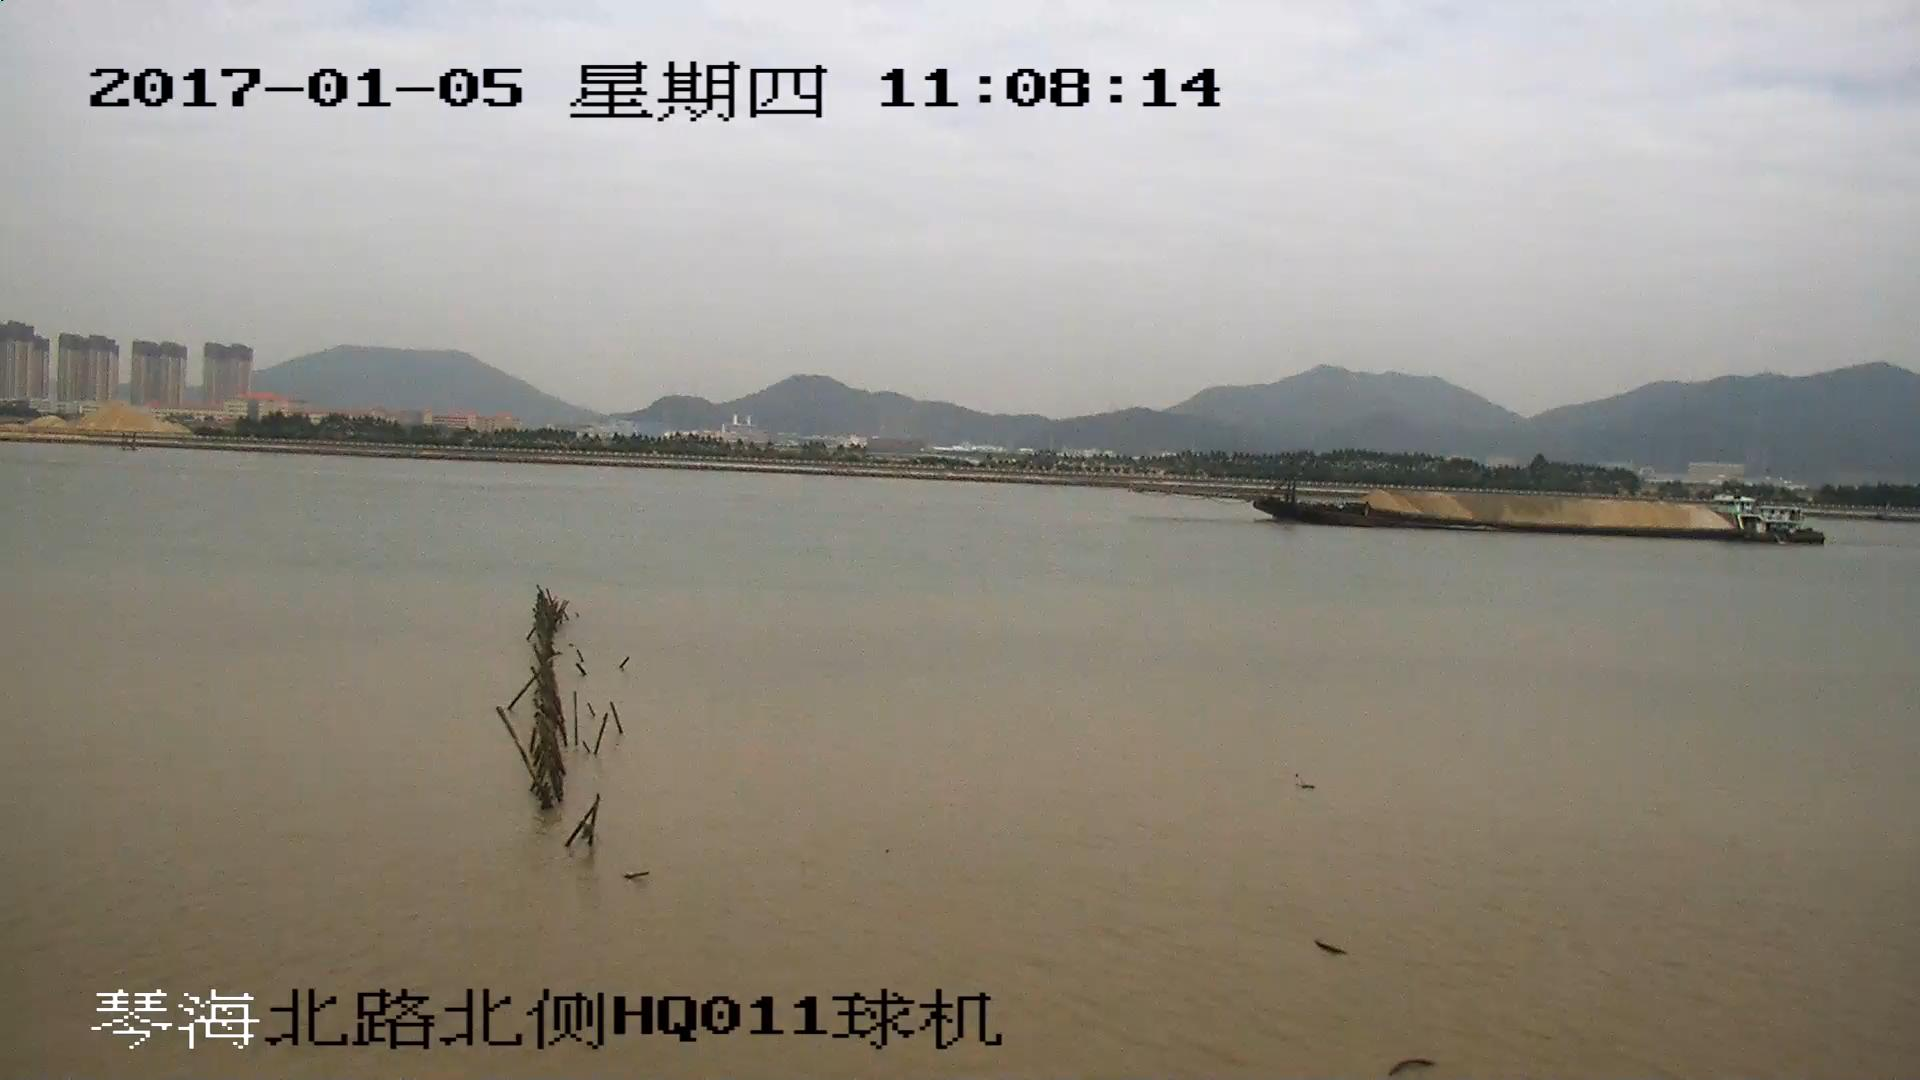ore carrier: (1158, 464, 1826, 542)
